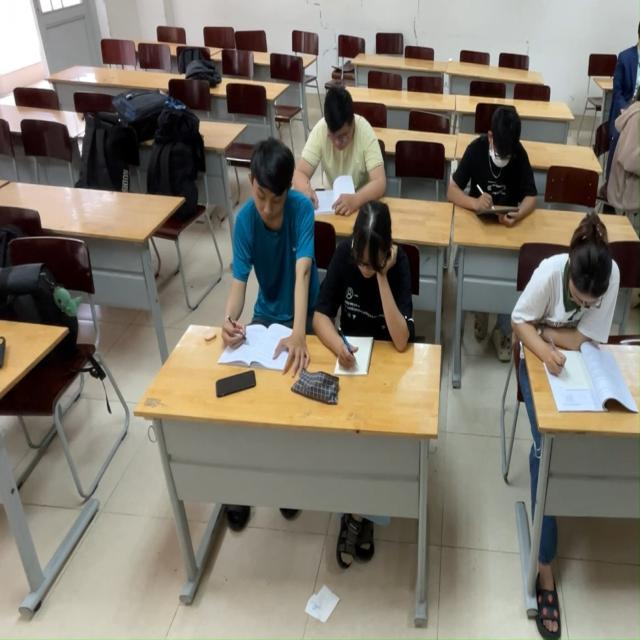read: (521, 211, 618, 414), (219, 152, 306, 368), (318, 206, 426, 378), (443, 69, 543, 229), (300, 89, 363, 216)
